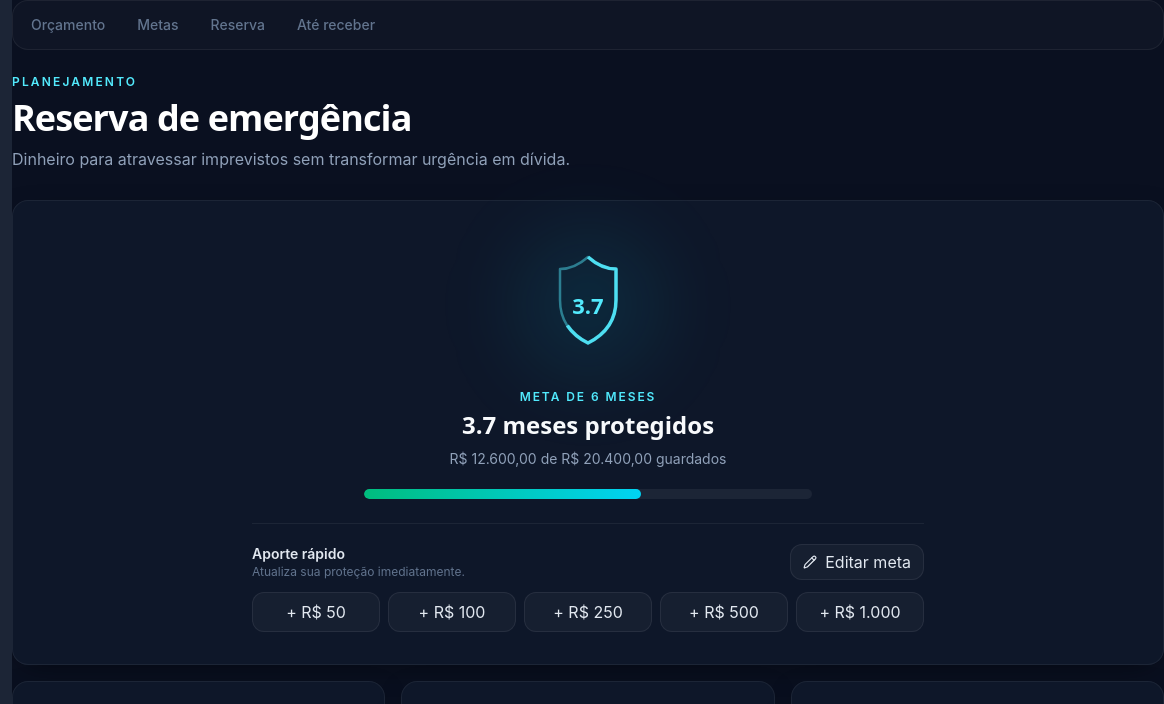
adds quick deposits to the reserve from a five-option grid
expect the button "+ R$ 50" is shown: met, box x1=252 y1=592 x2=380 y2=632
expect the button "+ R$ 100" is shown: met, box x1=388 y1=592 x2=516 y2=632
Click the button "+ R$ 500": click(724, 612) x1=660 y1=592 x2=788 y2=632
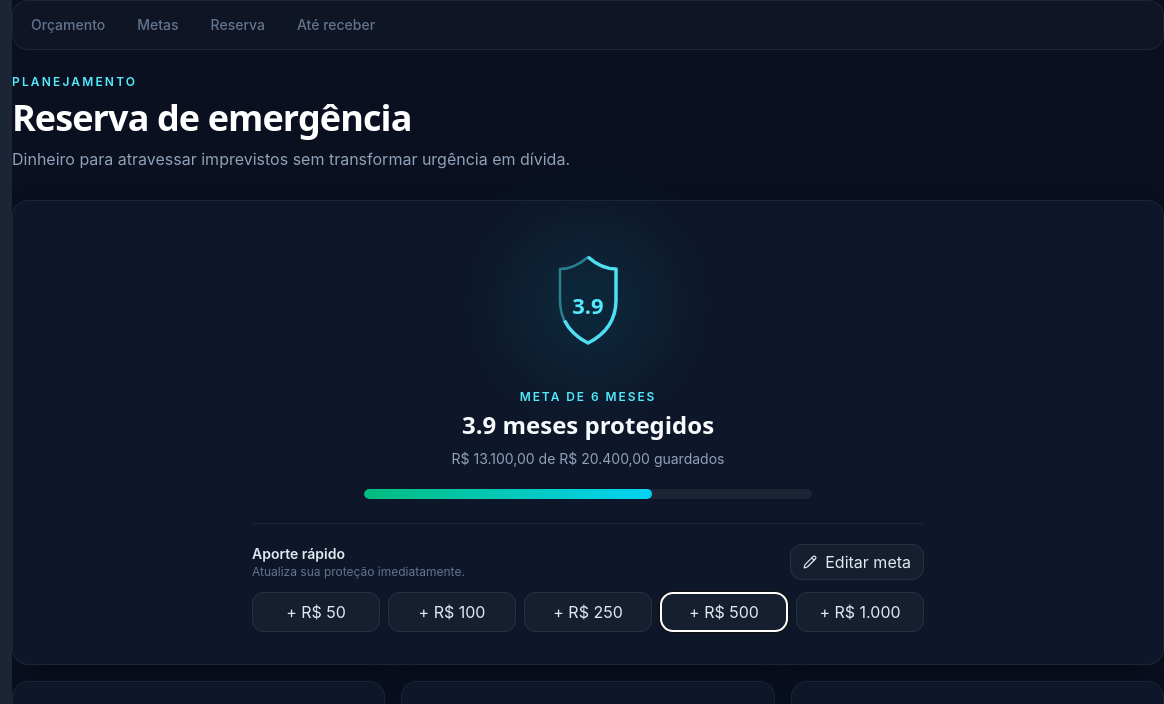
expect the text "R$ 13.100,00 de R$ 20.400,00 guardados" is shown: met, box x1=452 y1=450 x2=724 y2=467
